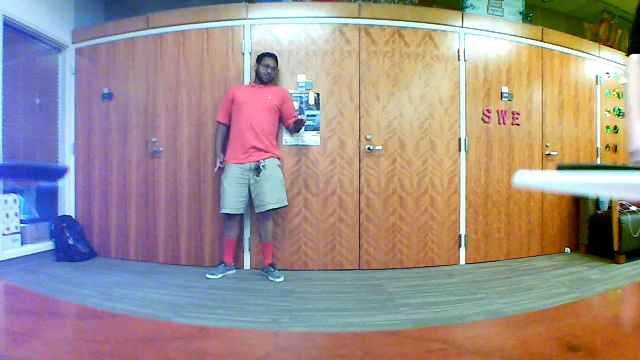land: (284, 109, 310, 137)
